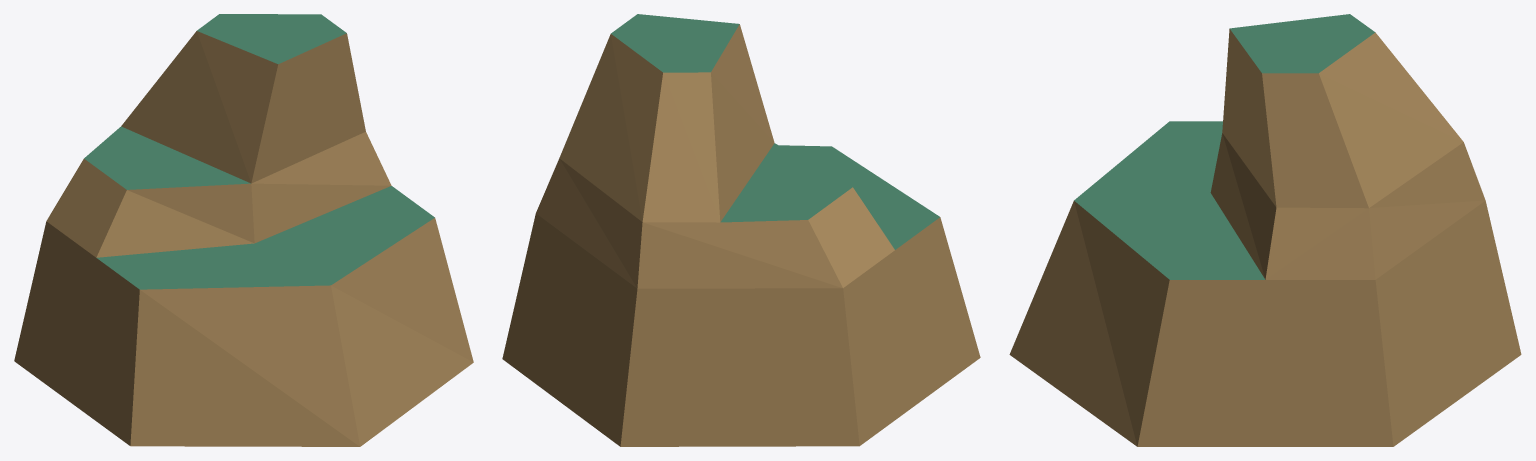
The model's file is Rock_Small_Mesa_Eroded_Moss_Grass_06.FBX.
3 renders of one model, left to right at view 1: azimuth 30°, elevation 25°; view 2: azimuth 150°, elevation 25°; view 3: azimuth 270°, elevation 25°, orthographic. The views are drawn at different scales.
Parts seen in each view (by area): view 1: Rock_Small_Mesa_Eroded_Moss_Grass_06; view 2: Rock_Small_Mesa_Eroded_Moss_Grass_06; view 3: Rock_Small_Mesa_Eroded_Moss_Grass_06.
Boxes of the visible parts, bbox=[...] form: Rock_Small_Mesa_Eroded_Moss_Grass_06: bbox=[14, 14, 473, 446]; Rock_Small_Mesa_Eroded_Moss_Grass_06: bbox=[502, 14, 980, 446]; Rock_Small_Mesa_Eroded_Moss_Grass_06: bbox=[1009, 14, 1521, 446].
Bounding box in the file's own units: 2241 × 1903 × 2629.
